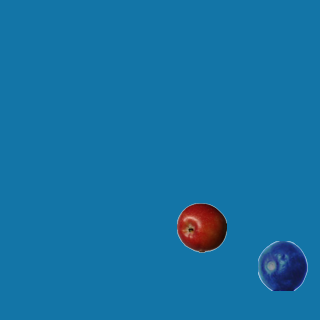Apple Braeburn: (176, 202, 226, 252)
Huckleberry: (257, 240, 307, 290)
